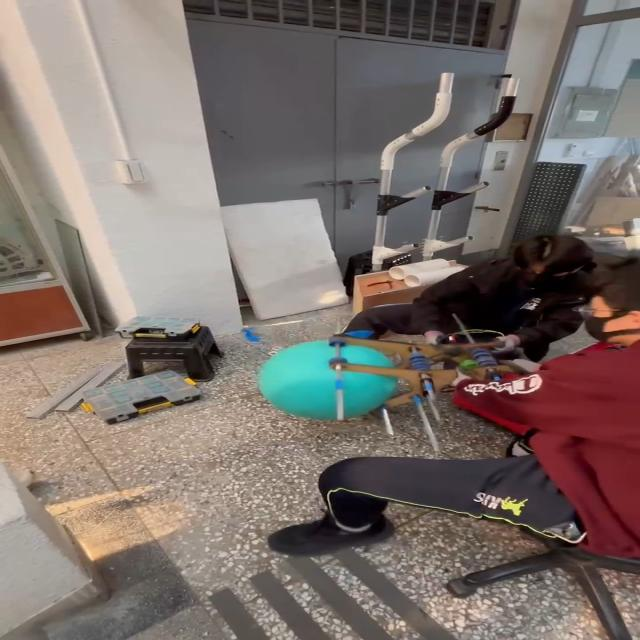ALGAE: (256, 338, 399, 422)
